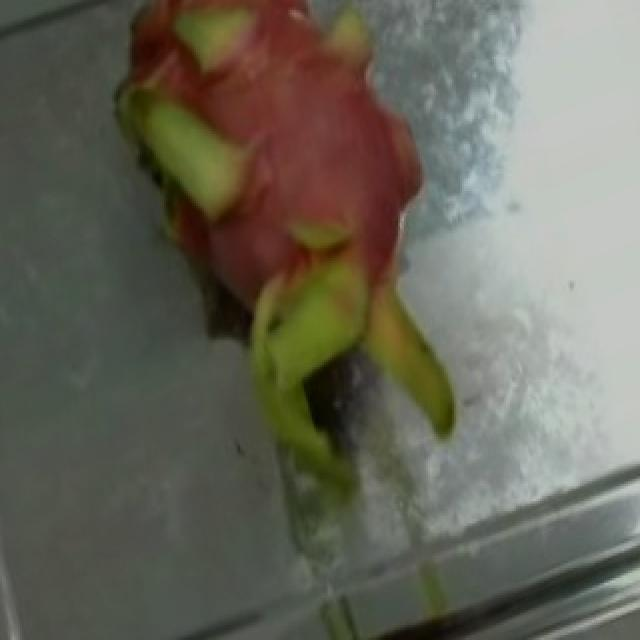fruit: (38, 0, 462, 419)
